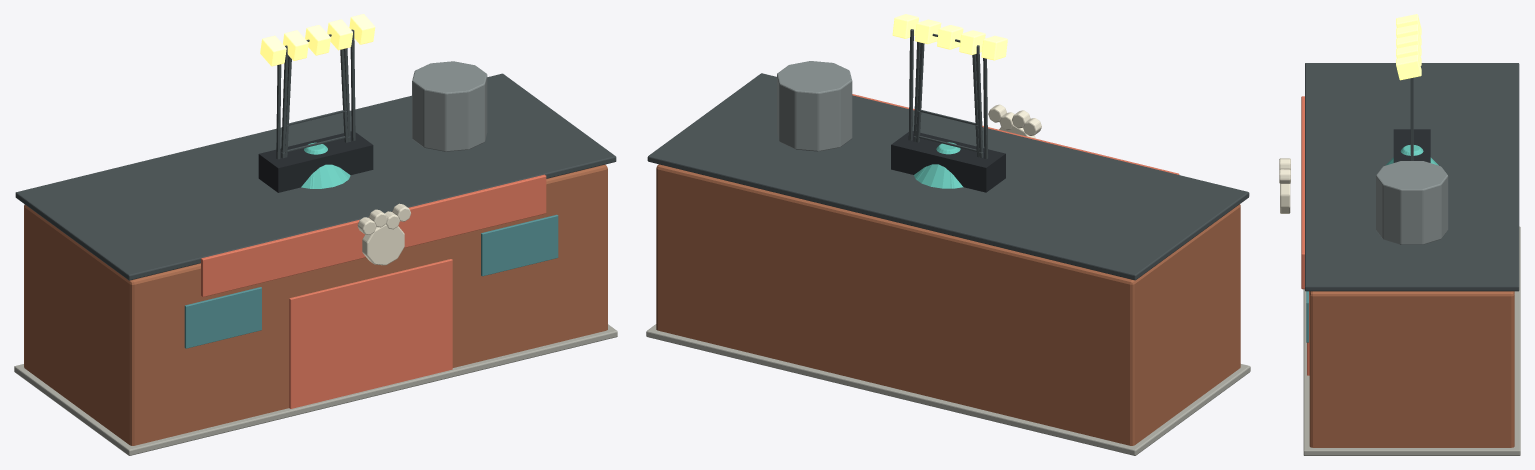
File: kaki-industrial-yard-kit-v1.glb
3 renders of one model, left to right at view 1: azimuth 30°, elevation 25°; view 2: azimuth 150°, elevation 25°; view 3: azimuth 270°, elevation 25°, orthographic. The views are drawn at different scales.
Visible parts, largest first — view 1: Shell, Roof, KR_INDUSTRIAL_WAREHOUSE_FACADE_LOD0_KR_MAT_KAKI_EVENT_CORAL, KR_INDUSTRIAL_WAREHOUSE_FACADE_LOD0_KR_MAT_TEST_LAB_GLASS, RoofVent, Foundation, KR_INDUSTRIAL_FLOODLIGHT_COL_PROXY, KR_INDUSTRIAL_FLOODLIGHT_LOD0_KR_MAT_WARM_LAMP, KR_INDUSTRIAL_WAREHOUSE_FACADE_LOD0_KR_MAT_EDGE_CREAM, KR_INDUSTRIAL_FLOODLIGHT_LOD1_KR_MAT_DARK_STRUCTURE, TankCap, KR_INDUSTRIAL_FLOODLIGHT_LOD0_KR_MAT_DARK_STRUCTURE (+1 smaller); view 2: Shell, Roof, RoofVent, Foundation, KR_INDUSTRIAL_FLOODLIGHT_COL_PROXY, KR_INDUSTRIAL_FLOODLIGHT_LOD0_KR_MAT_WARM_LAMP, KR_INDUSTRIAL_FLOODLIGHT_LOD1_KR_MAT_DARK_STRUCTURE, KR_INDUSTRIAL_WAREHOUSE_FACADE_LOD0_KR_MAT_EDGE_CREAM, KR_INDUSTRIAL_FLOODLIGHT_LOD0_KR_MAT_DARK_STRUCTURE, TankCap, KR_INDUSTRIAL_FLOODLIGHT_LOD2_KR_MAT_DARK_STRUCTURE; view 3: Roof, Shell, RoofVent, Foundation, KR_INDUSTRIAL_FLOODLIGHT_LOD0_KR_MAT_WARM_LAMP, KR_INDUSTRIAL_FLOODLIGHT_COL_PROXY, KR_INDUSTRIAL_WAREHOUSE_FACADE_LOD0_KR_MAT_KAKI_EVENT_CORAL, KR_INDUSTRIAL_WAREHOUSE_FACADE_LOD0_KR_MAT_EDGE_CREAM, KR_INDUSTRIAL_FLOODLIGHT_LOD2_KR_MAT_DARK_STRUCTURE.
Boxes of the visible parts, x1=… form: Shell: x1=24, y1=164, x2=607, y2=445; Roof: x1=15, y1=73, x2=616, y2=280; KR_INDUSTRIAL_WAREHOUSE_FACADE_LOD0_KR_MAT_KAKI_EVENT_CORAL: x1=201, y1=174, x2=546, y2=408; KR_INDUSTRIAL_WAREHOUSE_FACADE_LOD0_KR_MAT_TEST_LAB_GLASS: x1=184, y1=214, x2=558, y2=348; RoofVent: x1=412, y1=61, x2=487, y2=151; Foundation: x1=14, y1=324, x2=617, y2=455; KR_INDUSTRIAL_FLOODLIGHT_COL_PROXY: x1=258, y1=131, x2=373, y2=192; KR_INDUSTRIAL_FLOODLIGHT_LOD0_KR_MAT_WARM_LAMP: x1=260, y1=14, x2=375, y2=66; KR_INDUSTRIAL_WAREHOUSE_FACADE_LOD0_KR_MAT_EDGE_CREAM: x1=357, y1=203, x2=410, y2=265; KR_INDUSTRIAL_FLOODLIGHT_LOD1_KR_MAT_DARK_STRUCTURE: x1=281, y1=34, x2=350, y2=158; TankCap: x1=301, y1=142, x2=350, y2=188; KR_INDUSTRIAL_FLOODLIGHT_LOD0_KR_MAT_DARK_STRUCTURE: x1=285, y1=34, x2=348, y2=157; Shell: x1=656, y1=164, x2=1240, y2=445; Roof: x1=647, y1=73, x2=1249, y2=280; RoofVent: x1=777, y1=61, x2=852, y2=151; Foundation: x1=646, y1=324, x2=1250, y2=455; KR_INDUSTRIAL_FLOODLIGHT_COL_PROXY: x1=891, y1=131, x2=1005, y2=192; KR_INDUSTRIAL_FLOODLIGHT_LOD0_KR_MAT_WARM_LAMP: x1=892, y1=14, x2=1007, y2=60; KR_INDUSTRIAL_FLOODLIGHT_LOD1_KR_MAT_DARK_STRUCTURE: x1=913, y1=34, x2=983, y2=157; KR_INDUSTRIAL_WAREHOUSE_FACADE_LOD0_KR_MAT_EDGE_CREAM: x1=988, y1=104, x2=1041, y2=138; KR_INDUSTRIAL_FLOODLIGHT_LOD0_KR_MAT_DARK_STRUCTURE: x1=916, y1=33, x2=979, y2=157; TankCap: x1=914, y1=142, x2=963, y2=188; KR_INDUSTRIAL_FLOODLIGHT_LOD2_KR_MAT_DARK_STRUCTURE: x1=908, y1=29, x2=988, y2=159; Roof: x1=1305, y1=63, x2=1519, y2=291; Shell: x1=1309, y1=291, x2=1514, y2=447; RoofVent: x1=1376, y1=161, x2=1448, y2=244; Foundation: x1=1303, y1=226, x2=1520, y2=455; KR_INDUSTRIAL_FLOODLIGHT_LOD0_KR_MAT_WARM_LAMP: x1=1396, y1=14, x2=1421, y2=80; KR_INDUSTRIAL_FLOODLIGHT_COL_PROXY: x1=1393, y1=129, x2=1430, y2=162; KR_INDUSTRIAL_WAREHOUSE_FACADE_LOD0_KR_MAT_KAKI_EVENT_CORAL: x1=1301, y1=96, x2=1309, y2=375; KR_INDUSTRIAL_WAREHOUSE_FACADE_LOD0_KR_MAT_EDGE_CREAM: x1=1279, y1=158, x2=1290, y2=213; KR_INDUSTRIAL_FLOODLIGHT_LOD2_KR_MAT_DARK_STRUCTURE: x1=1410, y1=77, x2=1413, y2=160.
Bounding box in the file's own units: 19.45 × 12.48 × 8.84.
